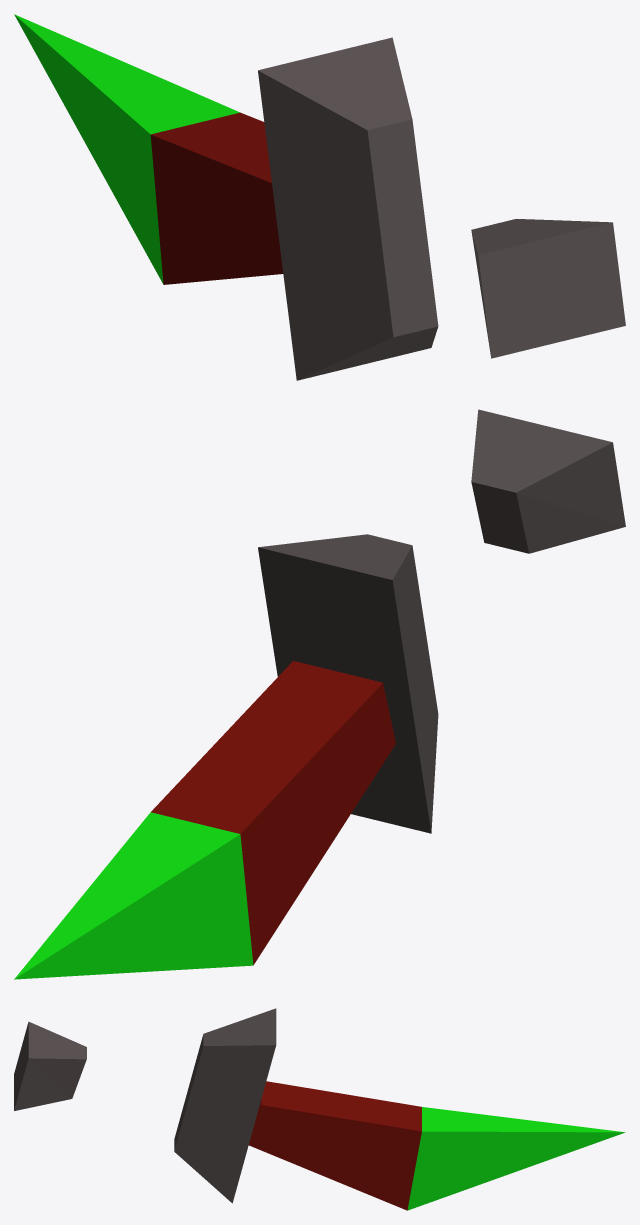
File: model_539_obj_wear.obj
The picture shows the model from 3 angles, top to bottom: view 1: azimuth 30°, elevation 25°; view 2: azimuth 150°, elevation 25°; view 3: azimuth 270°, elevation 25°; orthographic projection. The views are drawn at different scales.
Parts seen in each view (by area): view 1: 539; view 2: 539; view 3: 539.
Boxes of the visible parts, x1,y1,x2,y2 form: 539: (14,14,625,380); 539: (14,409,625,979); 539: (14,1008,625,1210).
Bounding box in the file's own units: 6 × 13 × 42.
